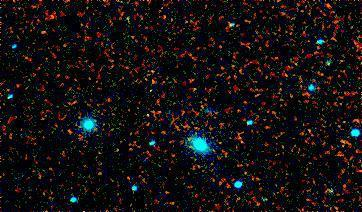star: (182, 77, 212, 107)
